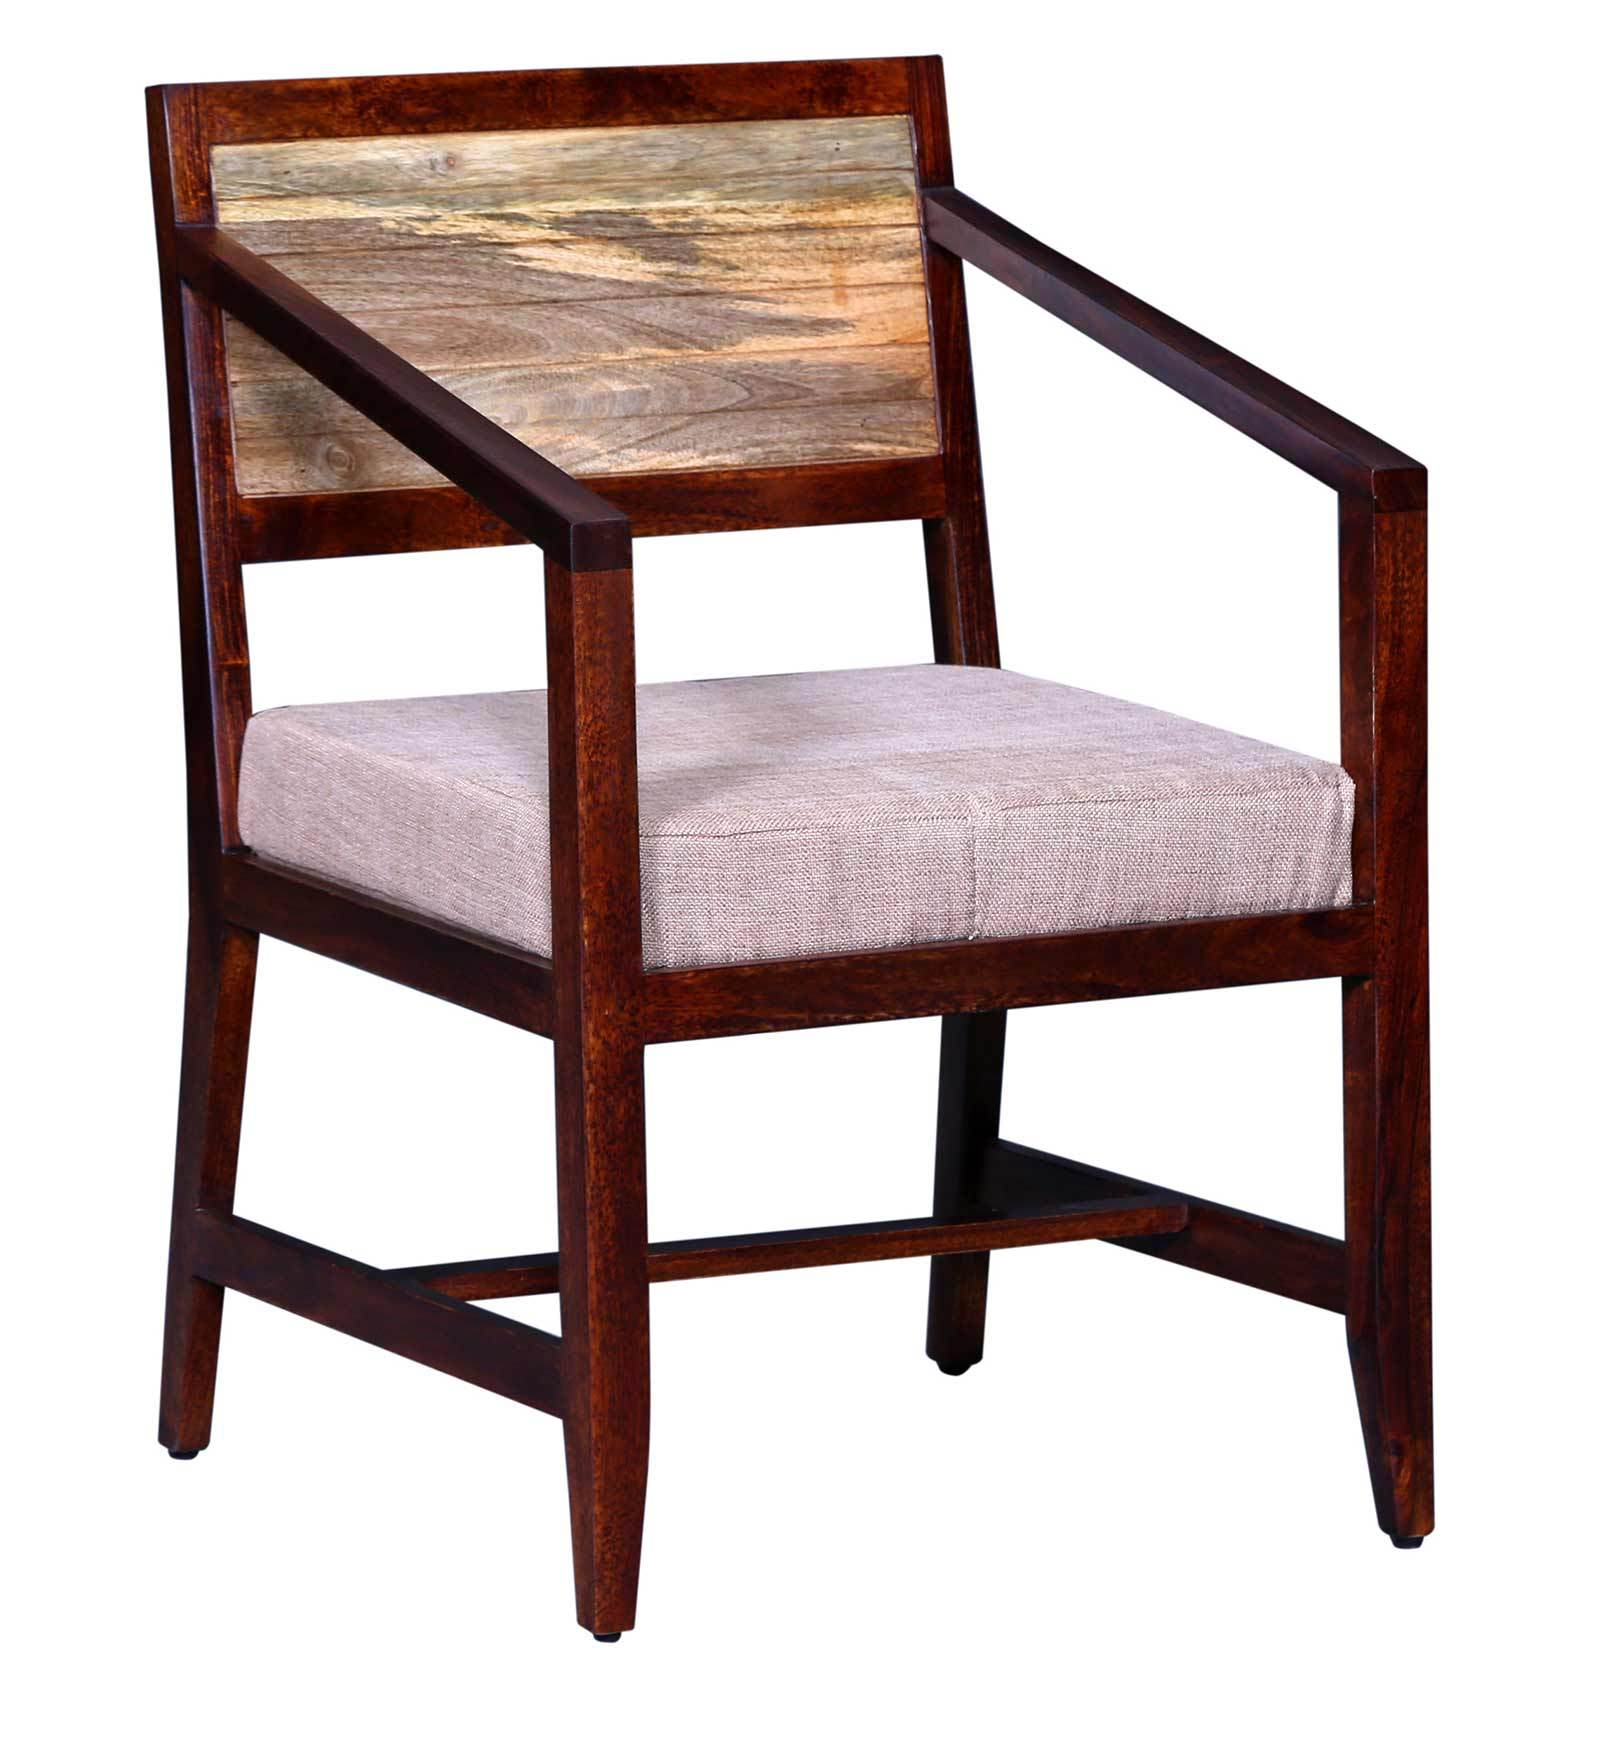Anitz Arm Chair in Dual Tone Finish by Woodsworth: (92, 55, 1519, 1642)
